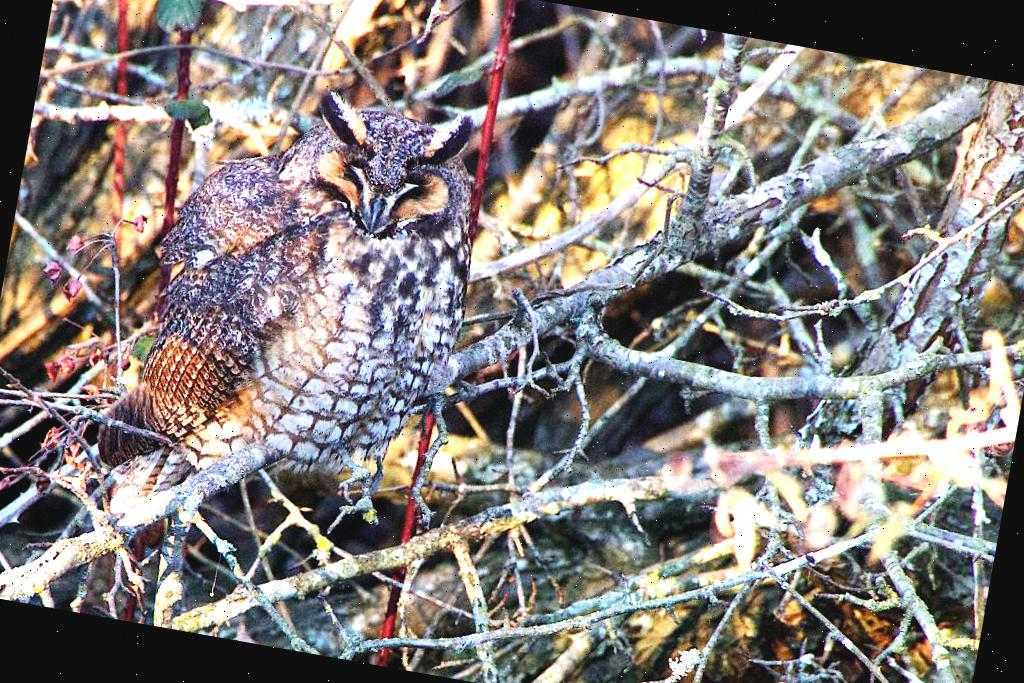Owl: (82, 57, 496, 546)
